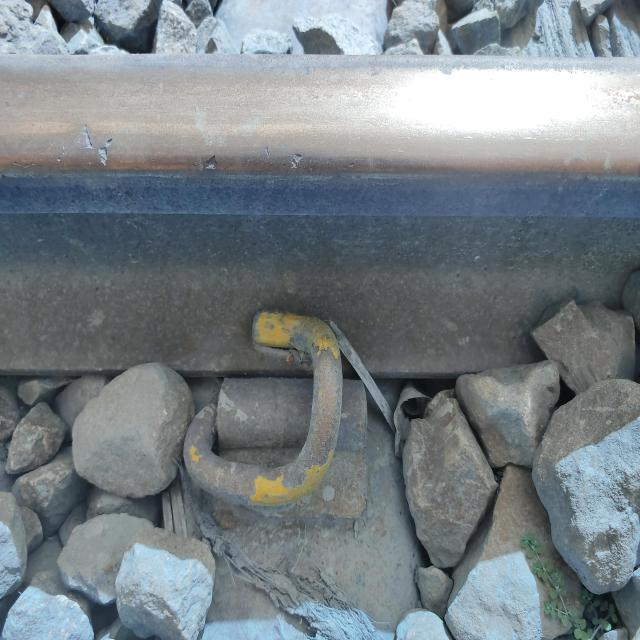Good Fasteners: (184, 312, 367, 518)
